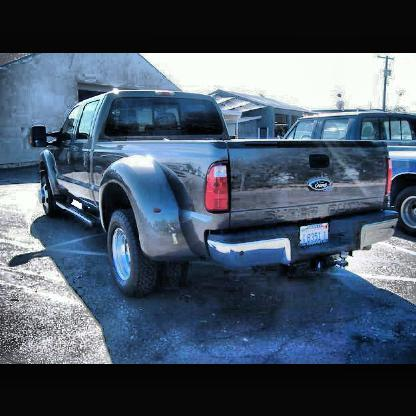Ford F-450 Super Duty Crew Cab 2012: (33, 92, 403, 301)
